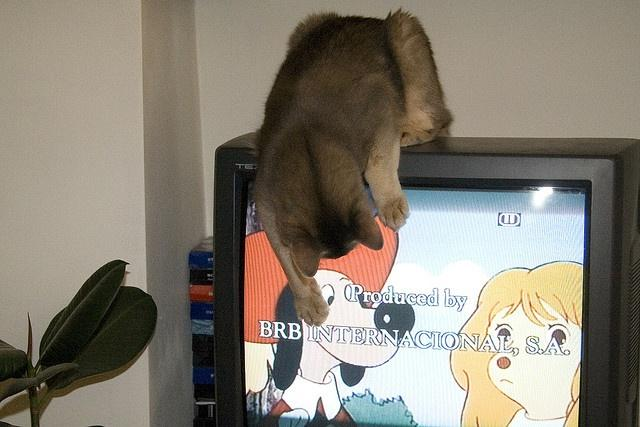AIO PC-Monitor-TV: (211, 146, 616, 426)
